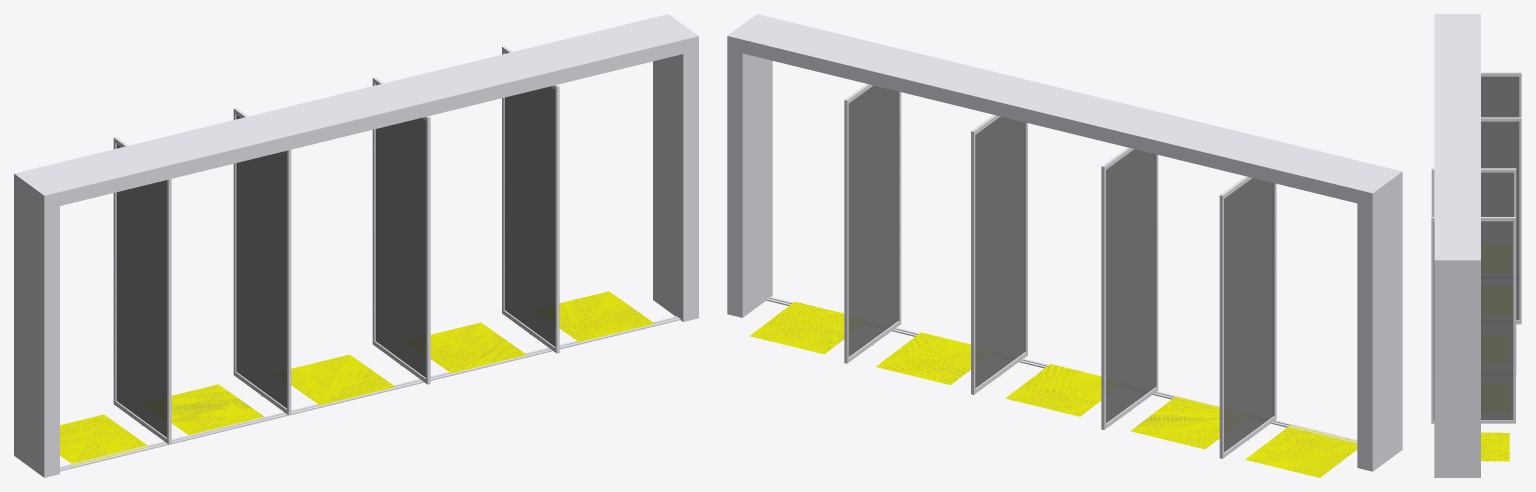
Rendered from ironman_wardrobe.dae.
3 renders of one model, left to right at view 1: azimuth 30°, elevation 25°; view 2: azimuth 150°, elevation 25°; view 3: azimuth 270°, elevation 25°, orthographic. The views are drawn at different scales.
Visible parts, largest first — view 1: group_0, group_5 (×2), SketchUp (×5), group_9, group_2, group_6 (×2), group_11, group_3, group_10; view 2: group_0, group_5 (×2), SketchUp (×5), group_9, group_2, group_6 (×2), group_10, group_3, group_11; view 3: group_0, group_9, group_5 (×2), group_2, group_10, group_6 (×2), SketchUp, group_3.
Boxes of the visible parts, box(x1,y1,x2,y2) form: group_0: box(14, 14, 698, 477); group_5 (×2): box(236, 84, 425, 408); SketchUp (×5): box(60, 291, 654, 465); group_9: box(504, 53, 555, 346); group_2: box(116, 144, 166, 437); group_6 (×2): box(233, 77, 430, 415); group_11: box(60, 316, 680, 471); group_3: box(113, 137, 171, 444); group_10: box(502, 46, 559, 353); group_0: box(727, 14, 1402, 471); group_5 (×2): box(975, 116, 1155, 423); SketchUp (×5): box(749, 301, 1357, 477); group_9: box(848, 85, 898, 356); group_2: box(1224, 178, 1273, 452); group_6 (×2): box(971, 114, 1158, 429); group_10: box(844, 83, 901, 363); group_3: box(1219, 176, 1276, 458); group_11: box(766, 297, 1357, 443); group_0: box(1434, 14, 1480, 477); group_9: box(1433, 221, 1513, 419); group_5 (×2): box(1481, 121, 1519, 320); group_2: box(1481, 76, 1519, 117); group_10: box(1431, 217, 1515, 423); group_6 (×2): box(1431, 117, 1521, 374); SketchUp: box(1481, 432, 1509, 461); group_3: box(1481, 72, 1521, 117).
Size of the model in its own units: 271 by 42.12 by 112.
